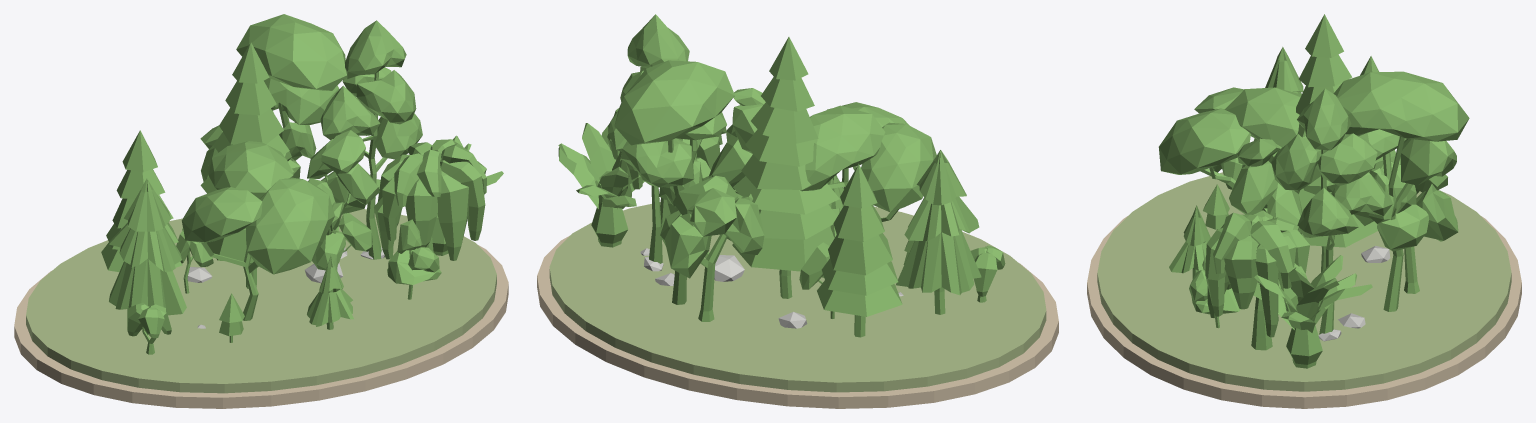
File: forest_level.glb
3 views of the same model, side by side, from view 1: azimuth 30°, elevation 25°; view 2: azimuth 150°, elevation 25°; view 3: azimuth 270°, elevation 25° (orthographic). The views are drawn at different scales.
Visible parts, largest first — view 1: Ground, Tree Type3 03 Model, Edge, Tree Type6 03 Model, Tree Type4 04 Model, Tree Type3 04 Model, Tree Type2 03 Model, Tree Type5 03 Model, Tree Type1 05 Model, Tree Type1 04 Model, Tree Type4 01 Model, Tree Type2 01 Model (+5 smaller); view 2: Ground, Tree Type1 05 Model, Tree Type3 04 Model, Edge, Tree Type3 03 Model, Tree Type1 04 Model, Tree Type2 03 Model, Tree Type0 05 Model, Tree Type7 01 Model, Tree Type4 04 Model, Tree Type5 03 Model, Tree Type6 03 Model (+3 smaller); view 3: Ground, Tree Type3 04 Model, Tree Type4 04 Model, Edge, Tree Type6 03 Model, Tree Type3 03 Model, Tree Type7 01 Model, Tree Type0 05 Model, Tree Type1 05 Model, Tree Type5 03 Model, Tree Type2 01 Model, Tree Type4 01 Model (+4 smaller).
Boxes of the visible parts, left/top/right/bottom form: Ground: left=26, top=209, right=496, bottom=393; Tree Type3 03 Model: left=181, top=141, right=334, bottom=320; Edge: left=14, top=245, right=508, bottom=408; Tree Type6 03 Model: left=374, top=139, right=486, bottom=260; Tree Type4 04 Model: left=320, top=20, right=422, bottom=259; Tree Type3 04 Model: left=236, top=14, right=346, bottom=160; Tree Type2 03 Model: left=109, top=178, right=186, bottom=334; Tree Type5 03 Model: left=307, top=130, right=379, bottom=270; Tree Type1 05 Model: left=200, top=42, right=293, bottom=288; Tree Type1 04 Model: left=101, top=130, right=182, bottom=271; Tree Type4 01 Model: left=387, top=219, right=441, bottom=299; Tree Type2 01 Model: left=307, top=255, right=353, bottom=329; Ground: left=549, top=202, right=1046, bottom=392; Tree Type1 05 Model: left=732, top=37, right=839, bottom=298; Tree Type3 04 Model: left=614, top=60, right=734, bottom=304; Edge: left=537, top=235, right=1058, bottom=408; Tree Type3 03 Model: left=800, top=102, right=936, bottom=221; Tree Type1 04 Model: left=817, top=164, right=902, bottom=337; Tree Type2 03 Model: left=896, top=150, right=981, bottom=314; Tree Type0 05 Model: left=660, top=175, right=764, bottom=321; Tree Type7 01 Model: left=558, top=123, right=644, bottom=247; Tree Type4 04 Model: left=608, top=14, right=689, bottom=263; Tree Type5 03 Model: left=708, top=88, right=765, bottom=193; Tree Type6 03 Model: left=607, top=108, right=722, bottom=229; Ground: left=1097, top=172, right=1511, bottom=391; Tree Type3 04 Model: left=1333, top=71, right=1469, bottom=311; Tree Type4 04 Model: left=1271, top=88, right=1392, bottom=334; Edge: left=1087, top=216, right=1521, bottom=408; Tree Type6 03 Model: left=1205, top=210, right=1309, bottom=350; Tree Type3 03 Model: left=1158, top=87, right=1301, bottom=187; Tree Type7 01 Model: left=1253, top=255, right=1372, bottom=368; Tree Type0 05 Model: left=1353, top=155, right=1458, bottom=293; Tree Type1 05 Model: left=1294, top=14, right=1377, bottom=272; Tree Type5 03 Model: left=1229, top=138, right=1302, bottom=234; Tree Type2 01 Model: left=1169, top=205, right=1210, bottom=278; Tree Type4 01 Model: left=1189, top=256, right=1240, bottom=328.
Size of the model in its own units: 12.88 by 7.15 by 10.08.
